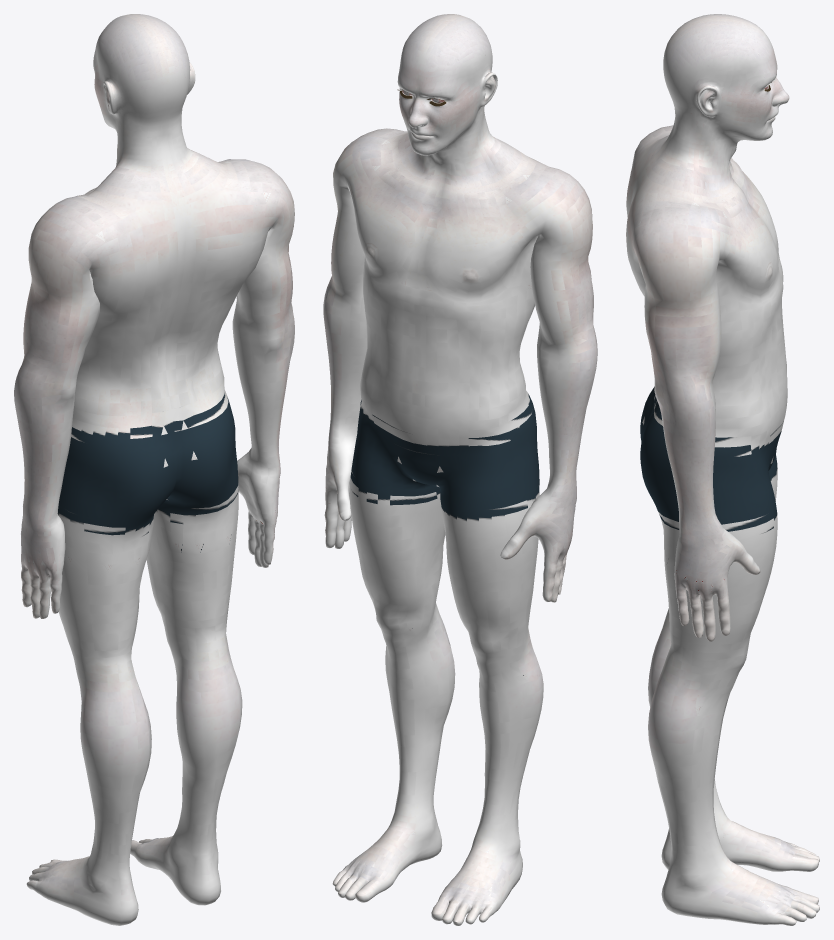
Rendered from resistance.obj.
3 views of the same model, side by side, from view 1: azimuth 30°, elevation 25°; view 2: azimuth 150°, elevation 25°; view 3: azimuth 270°, elevation 25° (orthographic). The views are drawn at different scales.
Visible parts, largest first — view 1: Body; view 2: Body; view 3: Body.
Boxes of the visible parts, x1,y1,x2,y2 form: Body: (14,14,294,925); Body: (323,14,597,925); Body: (626,14,819,925).
Bounding box in the file's own units: 58.2 × 179 × 36.01.
1 material, 1 textured.
